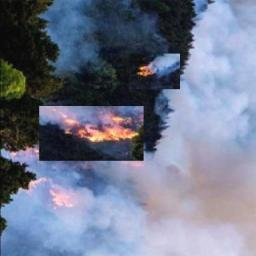Heavy smoke: (6, 150, 256, 256)
Small fire: (32, 106, 138, 150)
